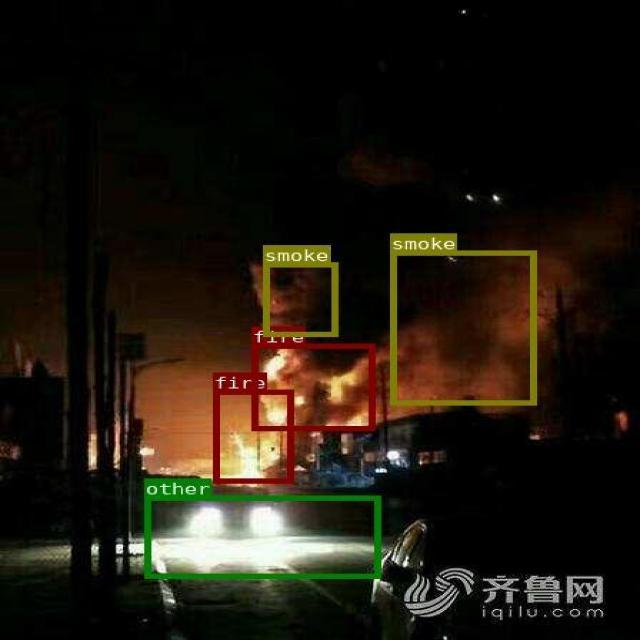fire: (251, 344, 373, 430), (213, 389, 292, 482)
smoke: (389, 249, 536, 404), (262, 261, 337, 336)
